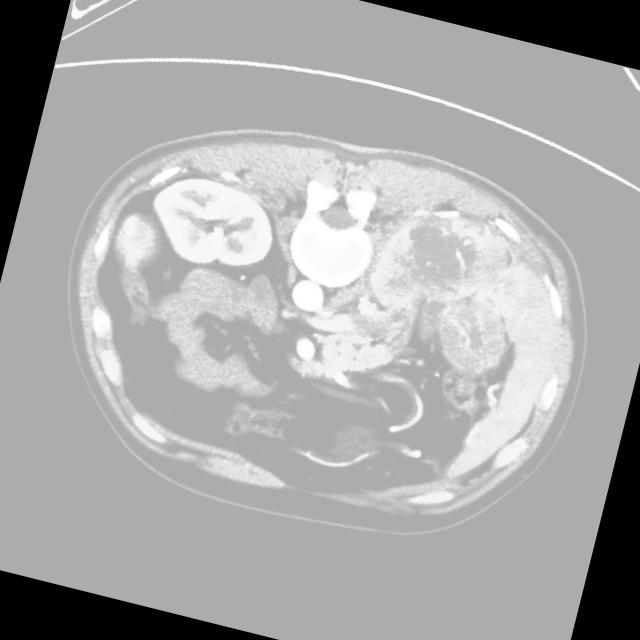TUMOR: (70, 138, 521, 501)
